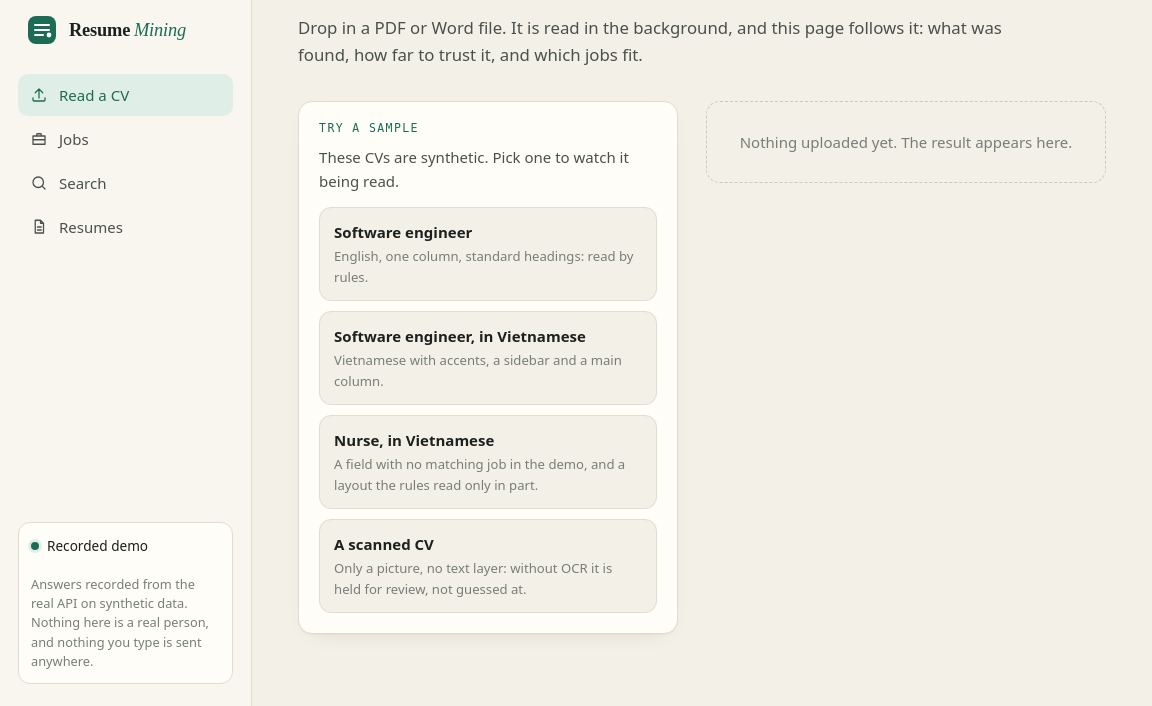
it: the recorded demo, end to end › holds a scan for review and explains why, without recommendations
(page scrolled)
Click the button "scanned": (488, 566) x1=319 y1=520 x2=657 y2=614
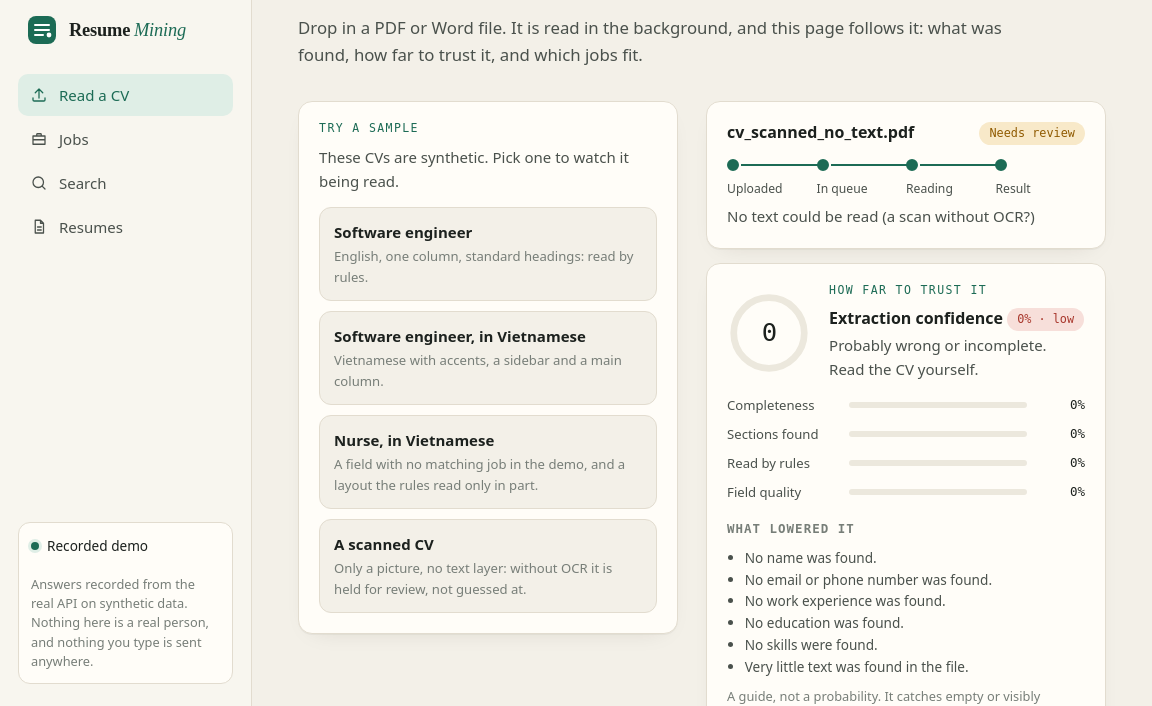
Now the text "Needs review" is shown, box x1=980 y1=122 x2=1085 y2=145
Now the text "No text could be read (a scan without OCR?)" is shown, box x1=727 y1=204 x2=1085 y2=228
